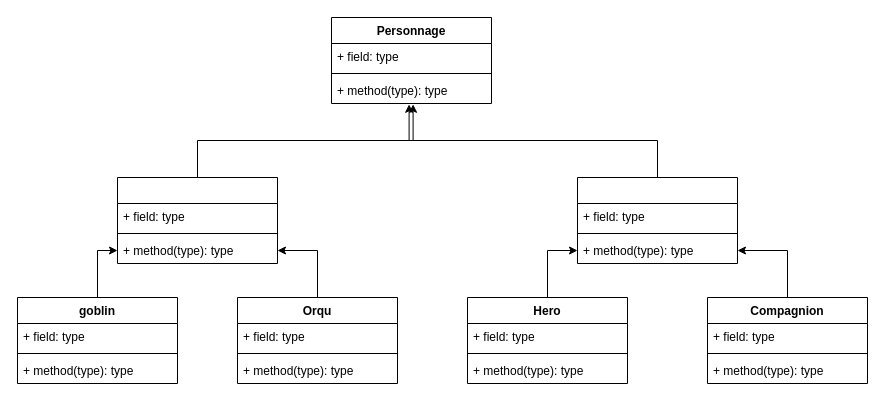
This 885x404 diagram has some shape labels left out. The shapes that lost their labels are listed below. From the top down, each one's box as (x1, y1, x2, y2) in pixels, then its label:
(116, 176, 278, 264): Enemie
(576, 176, 738, 264): Allié
